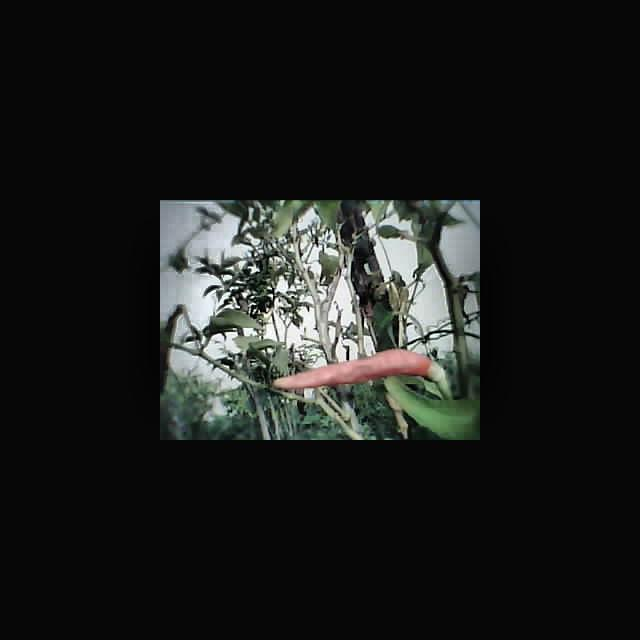Cabai: (274, 348, 455, 389)
